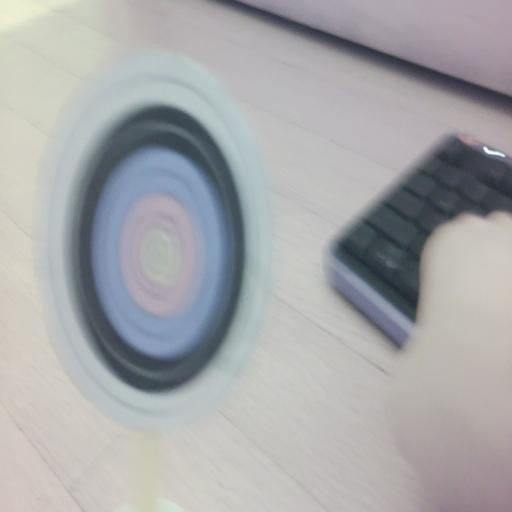target: (36, 52, 270, 431)
